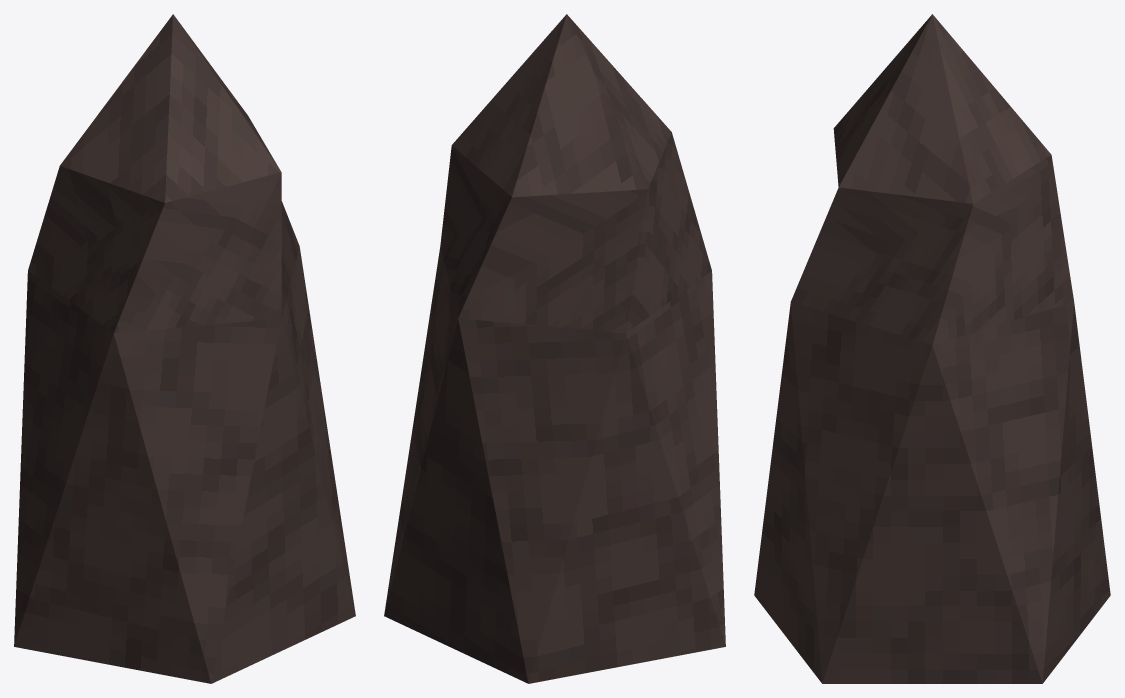
The model's file is Rock_2.obj.
The picture shows the model from 3 angles, left to right: view 1: azimuth 30°, elevation 25°; view 2: azimuth 150°, elevation 25°; view 3: azimuth 270°, elevation 25°; orthographic projection.
Parts seen in each view (by area): view 1: Icosphere; view 2: Icosphere; view 3: Icosphere.
Part boxes in pixels (x1=…): Icosphere: x1=14, y1=14, x2=355, y2=683; Icosphere: x1=384, y1=14, x2=725, y2=683; Icosphere: x1=754, y1=14, x2=1110, y2=683.
Size of the model in its own units: 1.22 by 2.41 by 1.28.
1 material, 1 textured.
